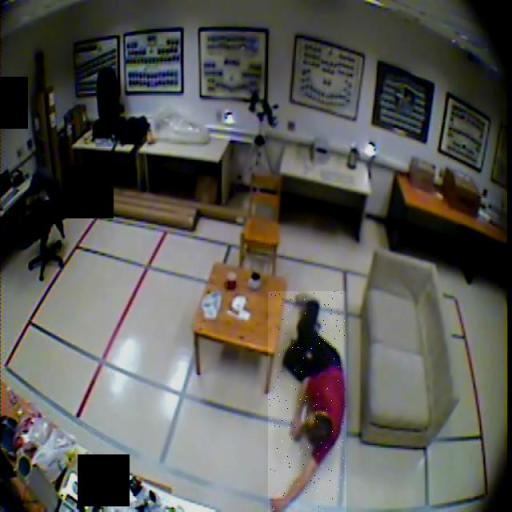Fall: (268, 291, 346, 512)
